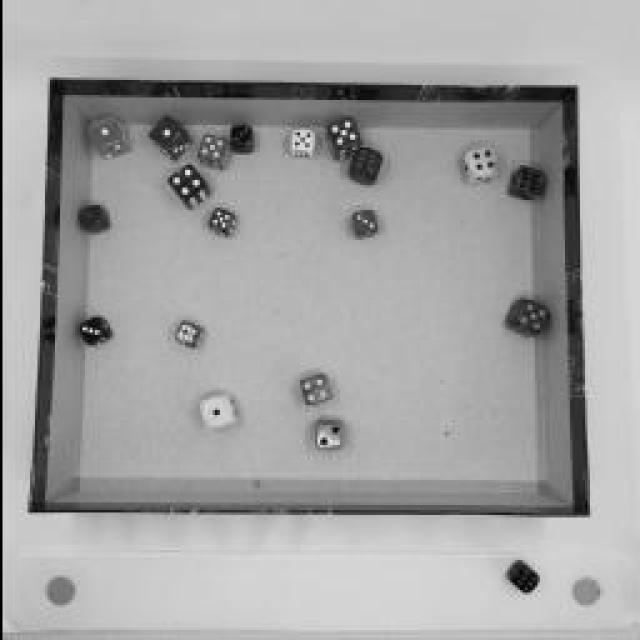dice_1: (82, 112, 132, 162), (145, 114, 190, 164), (198, 392, 238, 432), (75, 202, 110, 238)
dice_2: (313, 420, 345, 452)
dice_3: (75, 314, 115, 351), (348, 209, 380, 241), (225, 124, 255, 156)
dice_4: (164, 162, 211, 212), (455, 145, 500, 190), (295, 372, 333, 410)
dice_5: (500, 298, 550, 340), (320, 116, 362, 166), (192, 132, 232, 172), (286, 128, 316, 162), (205, 206, 235, 239)
dice_6: (343, 145, 385, 187), (503, 165, 545, 203), (171, 320, 201, 350)
